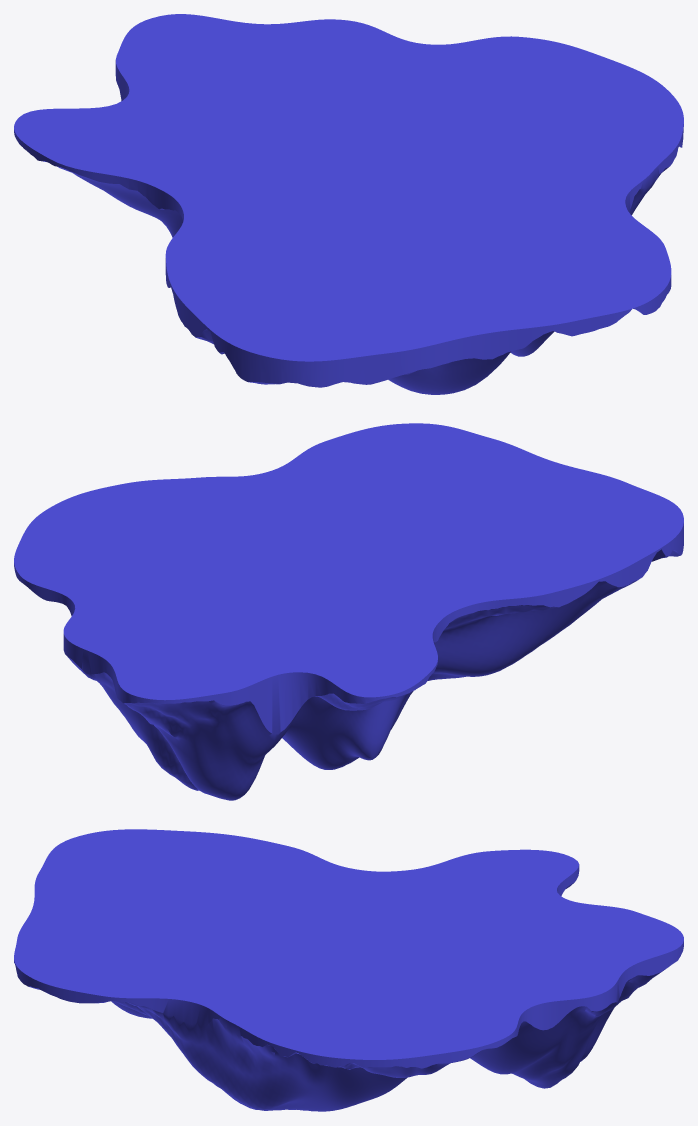
The model's file is lake2.glb.
3 views of the same model, one above another, from view 1: azimuth 30°, elevation 25°; view 2: azimuth 150°, elevation 25°; view 3: azimuth 270°, elevation 25° (orthographic). The views are drawn at different scales.
Parts seen in each view (by area): view 1: Splat; view 2: Splat; view 3: Splat.
Boxes of the visible parts, left/top/right/bottom form: Splat: left=14, top=14, right=683, bottom=394; Splat: left=14, top=423, right=683, bottom=800; Splat: left=14, top=829, right=683, bottom=1111.
Bounding box in the file's own units: 12.71 × 3.79 × 15.59.
